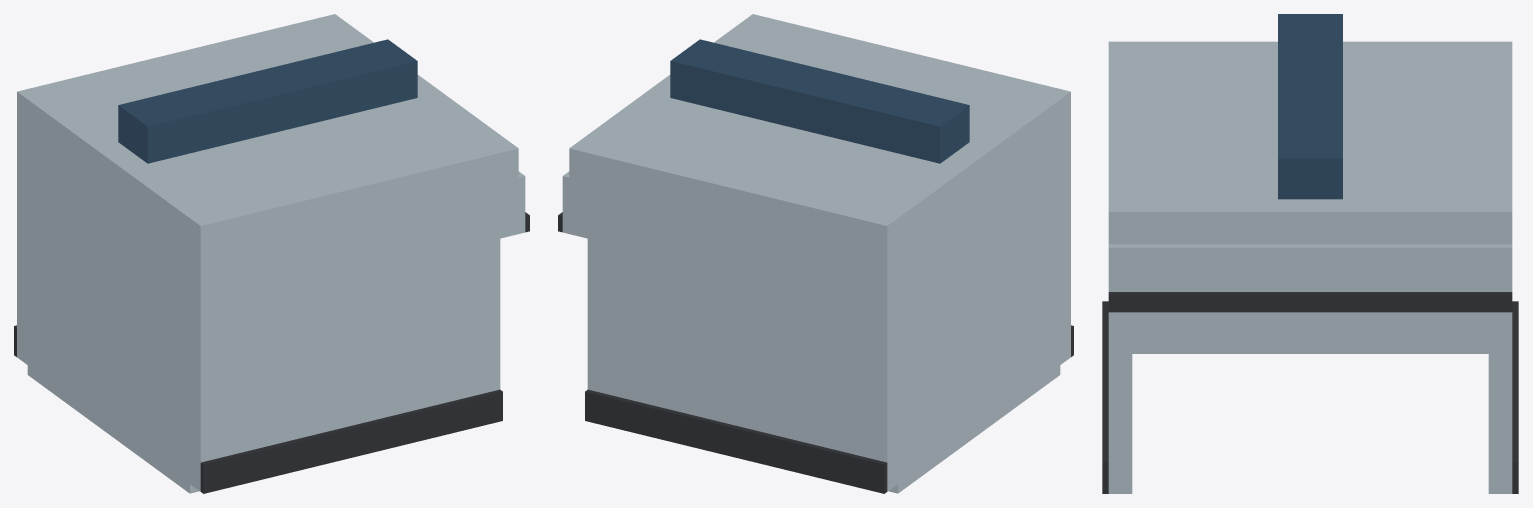
3 renders of one model, left to right at view 1: azimuth 30°, elevation 25°; view 2: azimuth 150°, elevation 25°; view 3: azimuth 270°, elevation 25°, orthographic. The views are drawn at different scales.
Parts seen in each view (by area): view 1: helmet; view 2: helmet; view 3: helmet.
Boxes of the visible parts, bbox=[...] form: helmet: bbox=[14, 14, 529, 493]; helmet: bbox=[558, 14, 1073, 493]; helmet: bbox=[1102, 14, 1518, 493].
Bounding box in the file's own units: 0.708 × 0.642 × 0.706.
Materials: 1 (1 with a texture image).
